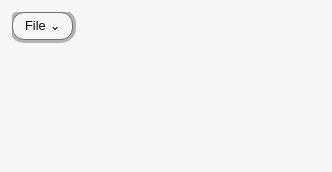
Test: dismisses File without running an unselected command
The image size is (332, 172).
Press the mouse on the button "File ⌄": (43, 26) [12,12,73,40]
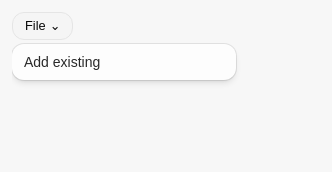
Press Escape in the menu item "Add existing", box [24,54,100,70]
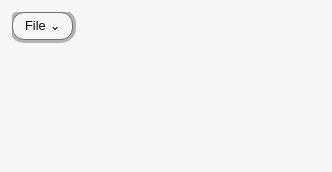
Check: the menu is gone
